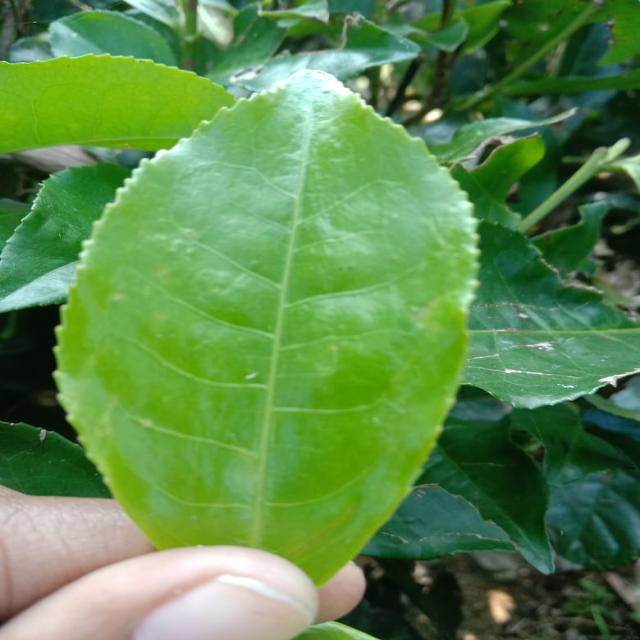Category B 2-4 days: (49, 62, 488, 609)
